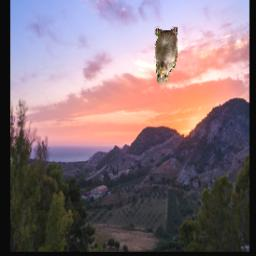Sparrow: (155, 23, 178, 85)
